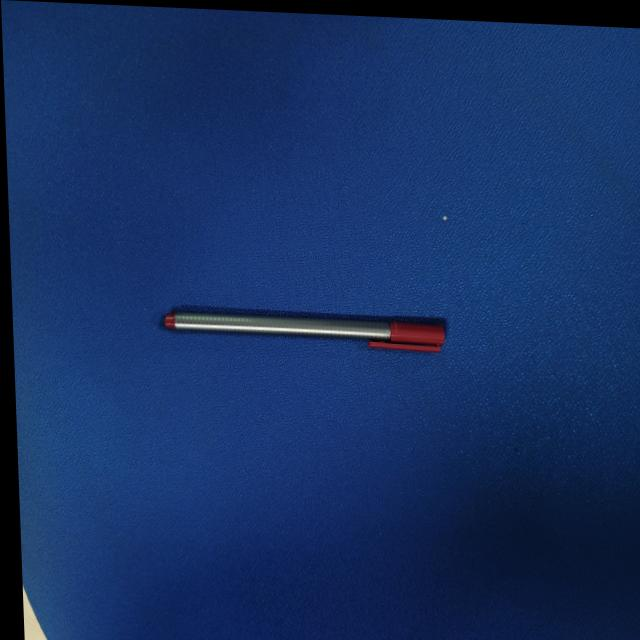caneta: (136, 284, 456, 382)
